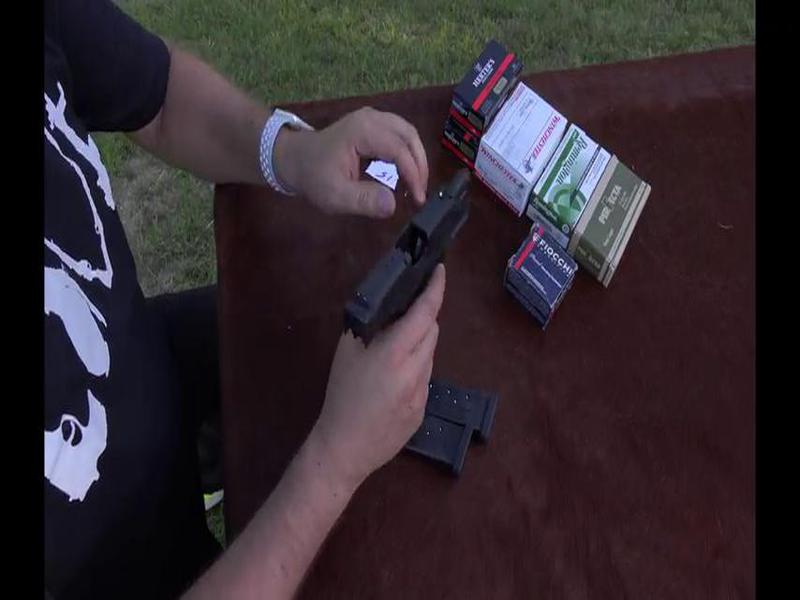Pistola: (335, 164, 486, 370)
